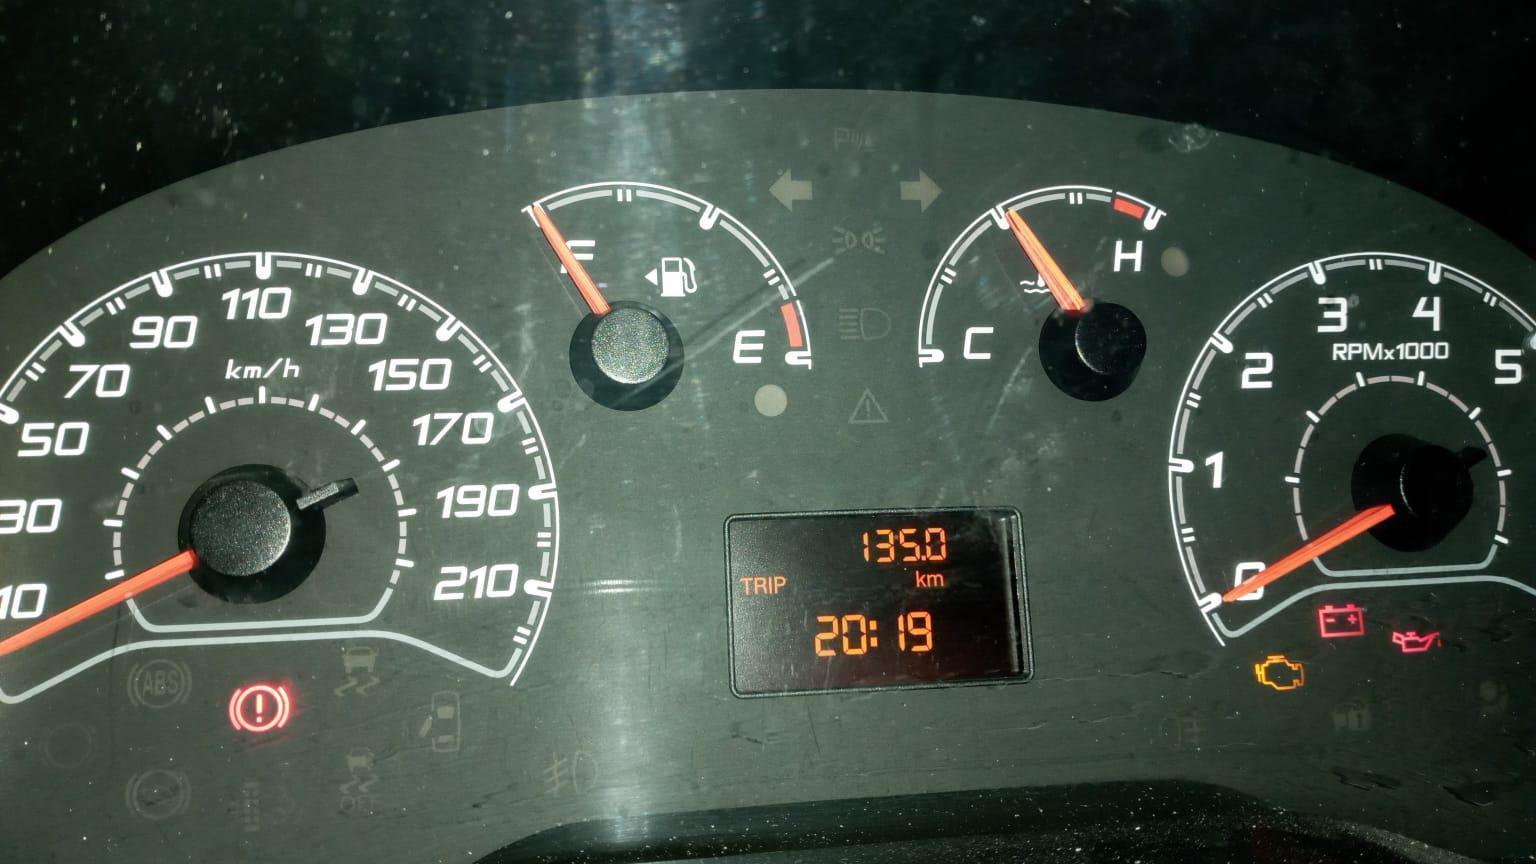,: (920, 554, 926, 561)
0: (840, 613, 867, 655), (924, 526, 947, 561)
1: (896, 613, 906, 652), (861, 531, 869, 562)
2: (814, 615, 839, 657)
3: (873, 529, 895, 563)
5: (898, 527, 920, 561)
9: (906, 611, 934, 652)
X: (926, 573, 944, 588), (868, 619, 878, 647), (753, 577, 767, 594), (740, 577, 752, 595), (915, 569, 926, 588), (773, 576, 786, 593), (768, 575, 772, 593)
odometer: (722, 506, 1036, 700)
